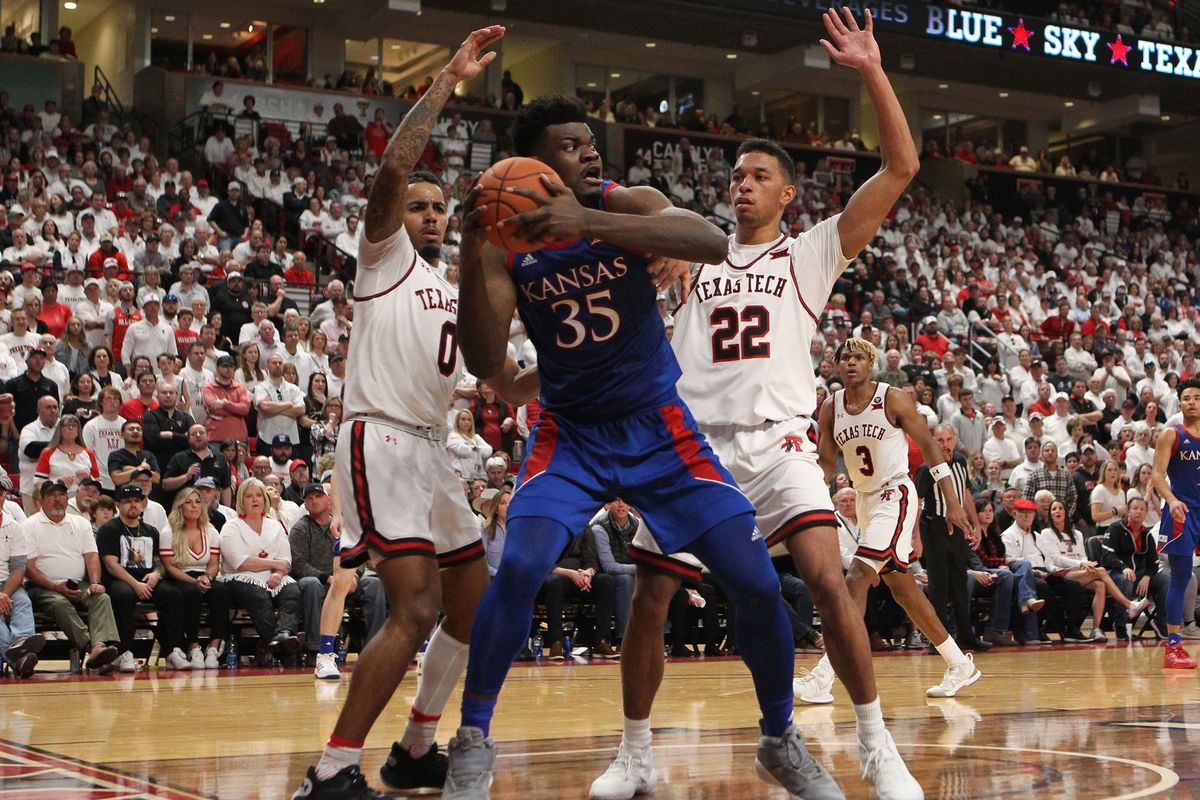ball: (463, 147, 579, 259)
defense: (652, 31, 946, 800), (311, 42, 477, 800)
